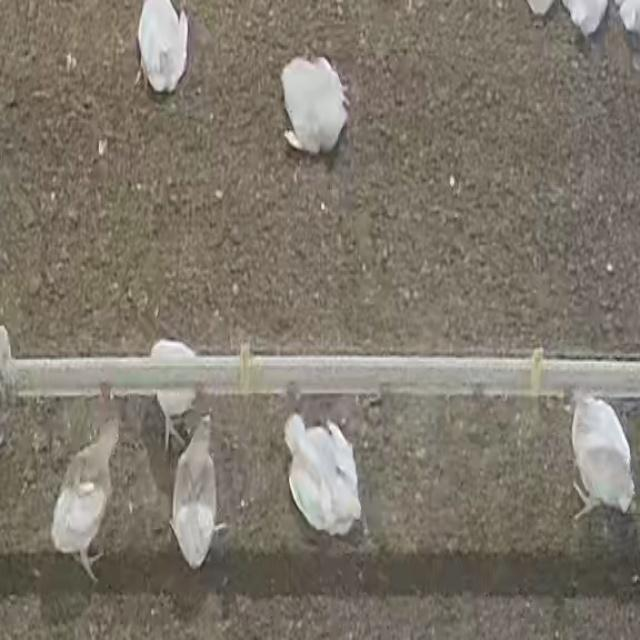chicken: (285, 412, 363, 538), (51, 419, 122, 554), (568, 389, 636, 522), (173, 414, 219, 571), (279, 56, 346, 154), (137, 0, 187, 98)
